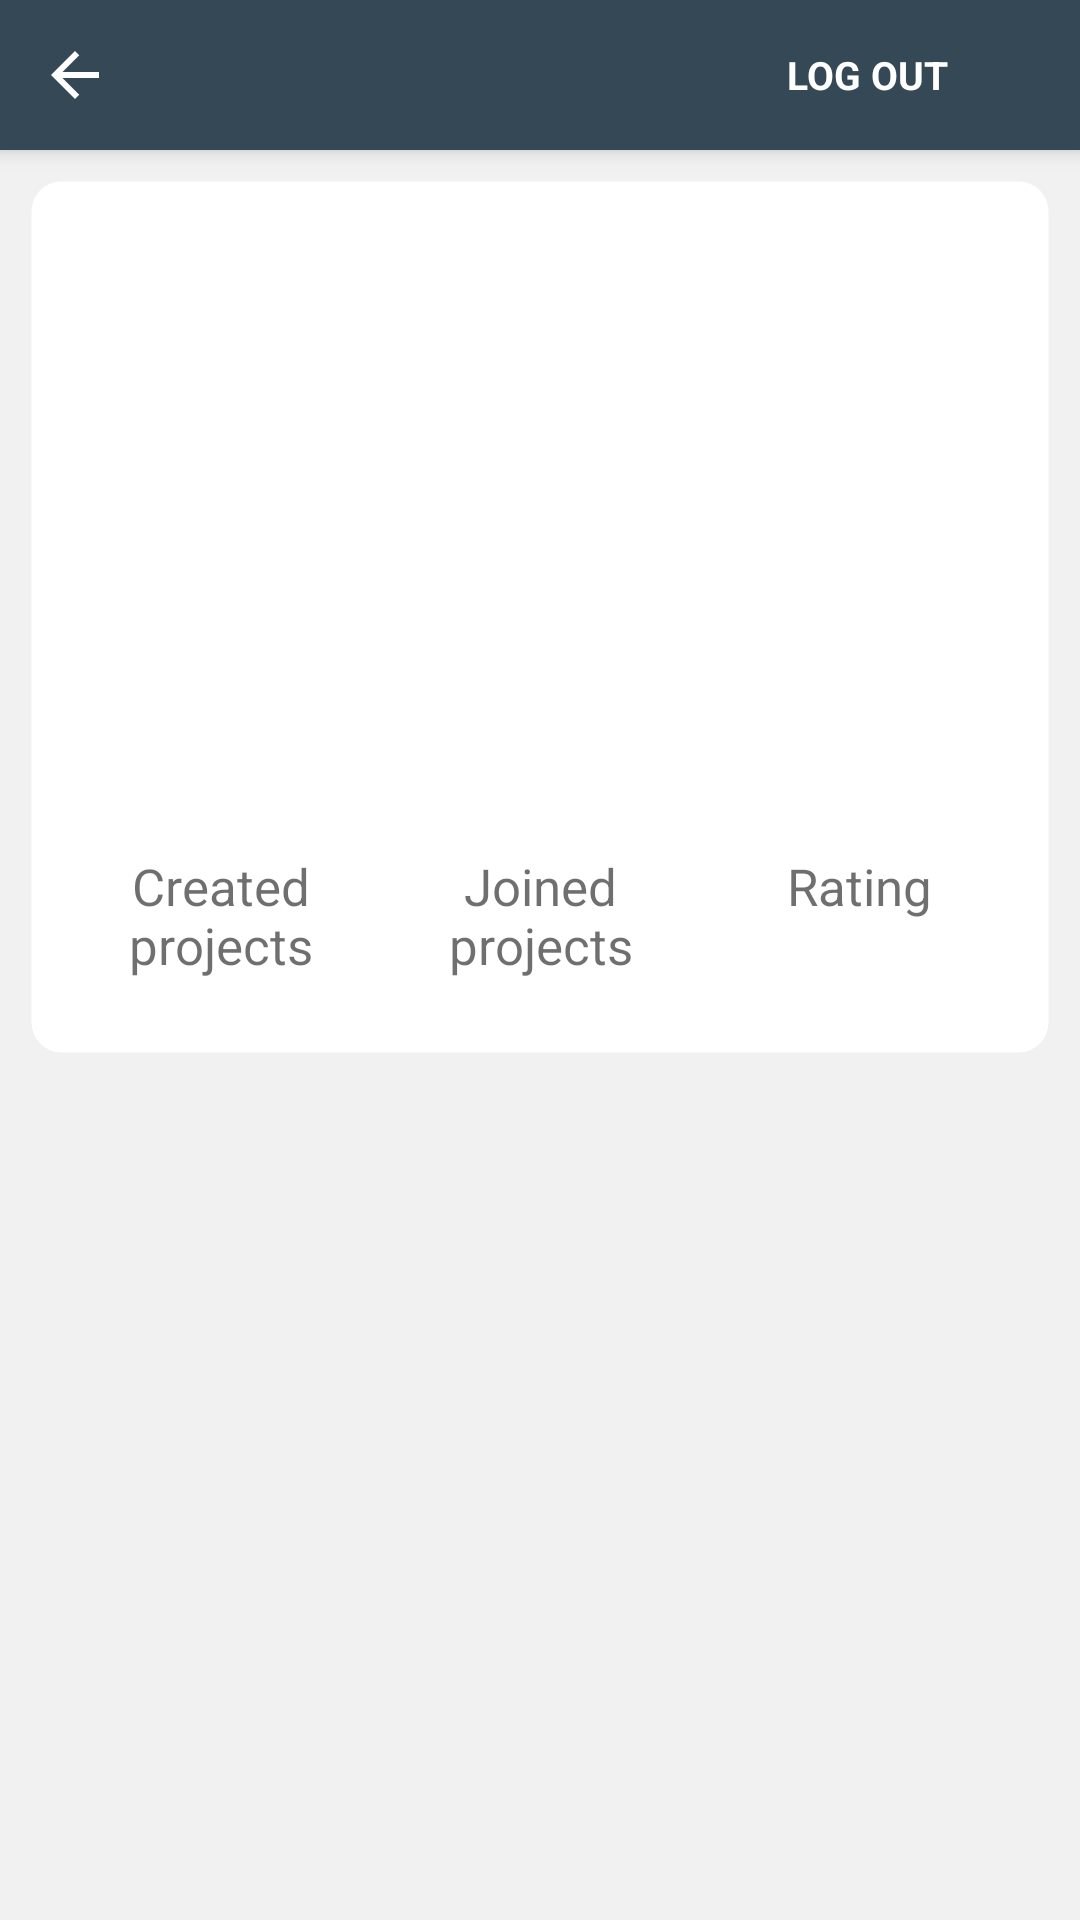

Icon bounding boxes for this 1080px×1920px phone screenshot, format bbox=(x1, y1, x2, y2):
back: bbox=(51, 51, 99, 99)
